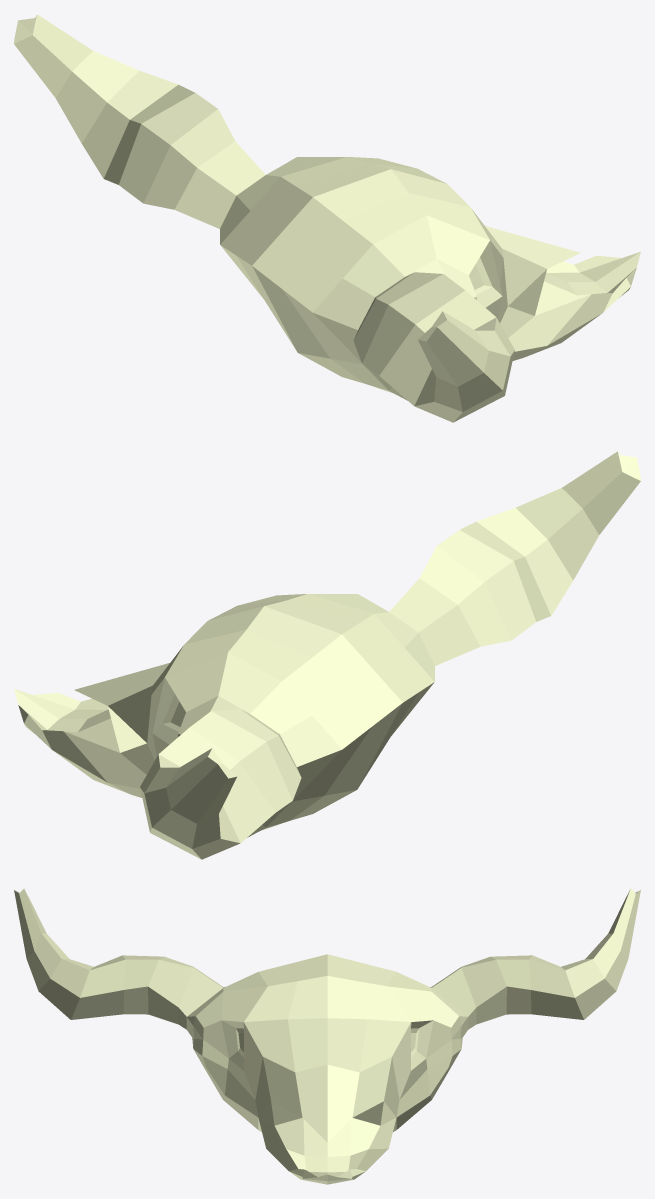
File: bizon-skull.glb
The picture shows the model from 3 angles, top to bottom: view 1: azimuth 30°, elevation 25°; view 2: azimuth 150°, elevation 25°; view 3: azimuth 270°, elevation 25°; orthographic projection. The views are drawn at different scales.
Visible parts, largest first — view 1: Bizon's Skull; view 2: Bizon's Skull; view 3: Bizon's Skull.
Part boxes in pixels (<box>): Bizon's Skull: <box>14,14,640,422</box>; Bizon's Skull: <box>14,451,640,859</box>; Bizon's Skull: <box>14,888,640,1184</box>.
Size of the model in its own units: 5.31 by 3.17 by 9.07.
